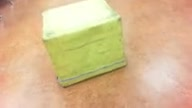cube: (41, 1, 127, 88)
